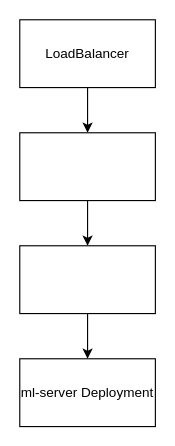
The diagram is 175 pixels wide and 446 high, and some of its shapes have lost their labels. Here are the shapes that lost their labels. From the top down, the box of each, then its label:
(19, 132, 155, 201): GatewayAPI
(19, 245, 155, 314): Service
